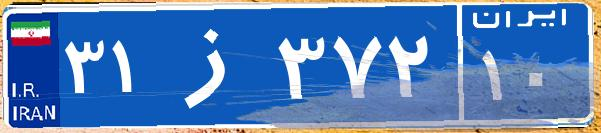0: (525, 38, 570, 115)
1: (475, 38, 525, 113), (110, 28, 158, 105)
2: (385, 28, 445, 110)
3: (273, 28, 330, 110), (57, 26, 110, 107)
7: (330, 28, 385, 110)
ز: (158, 15, 273, 115)
